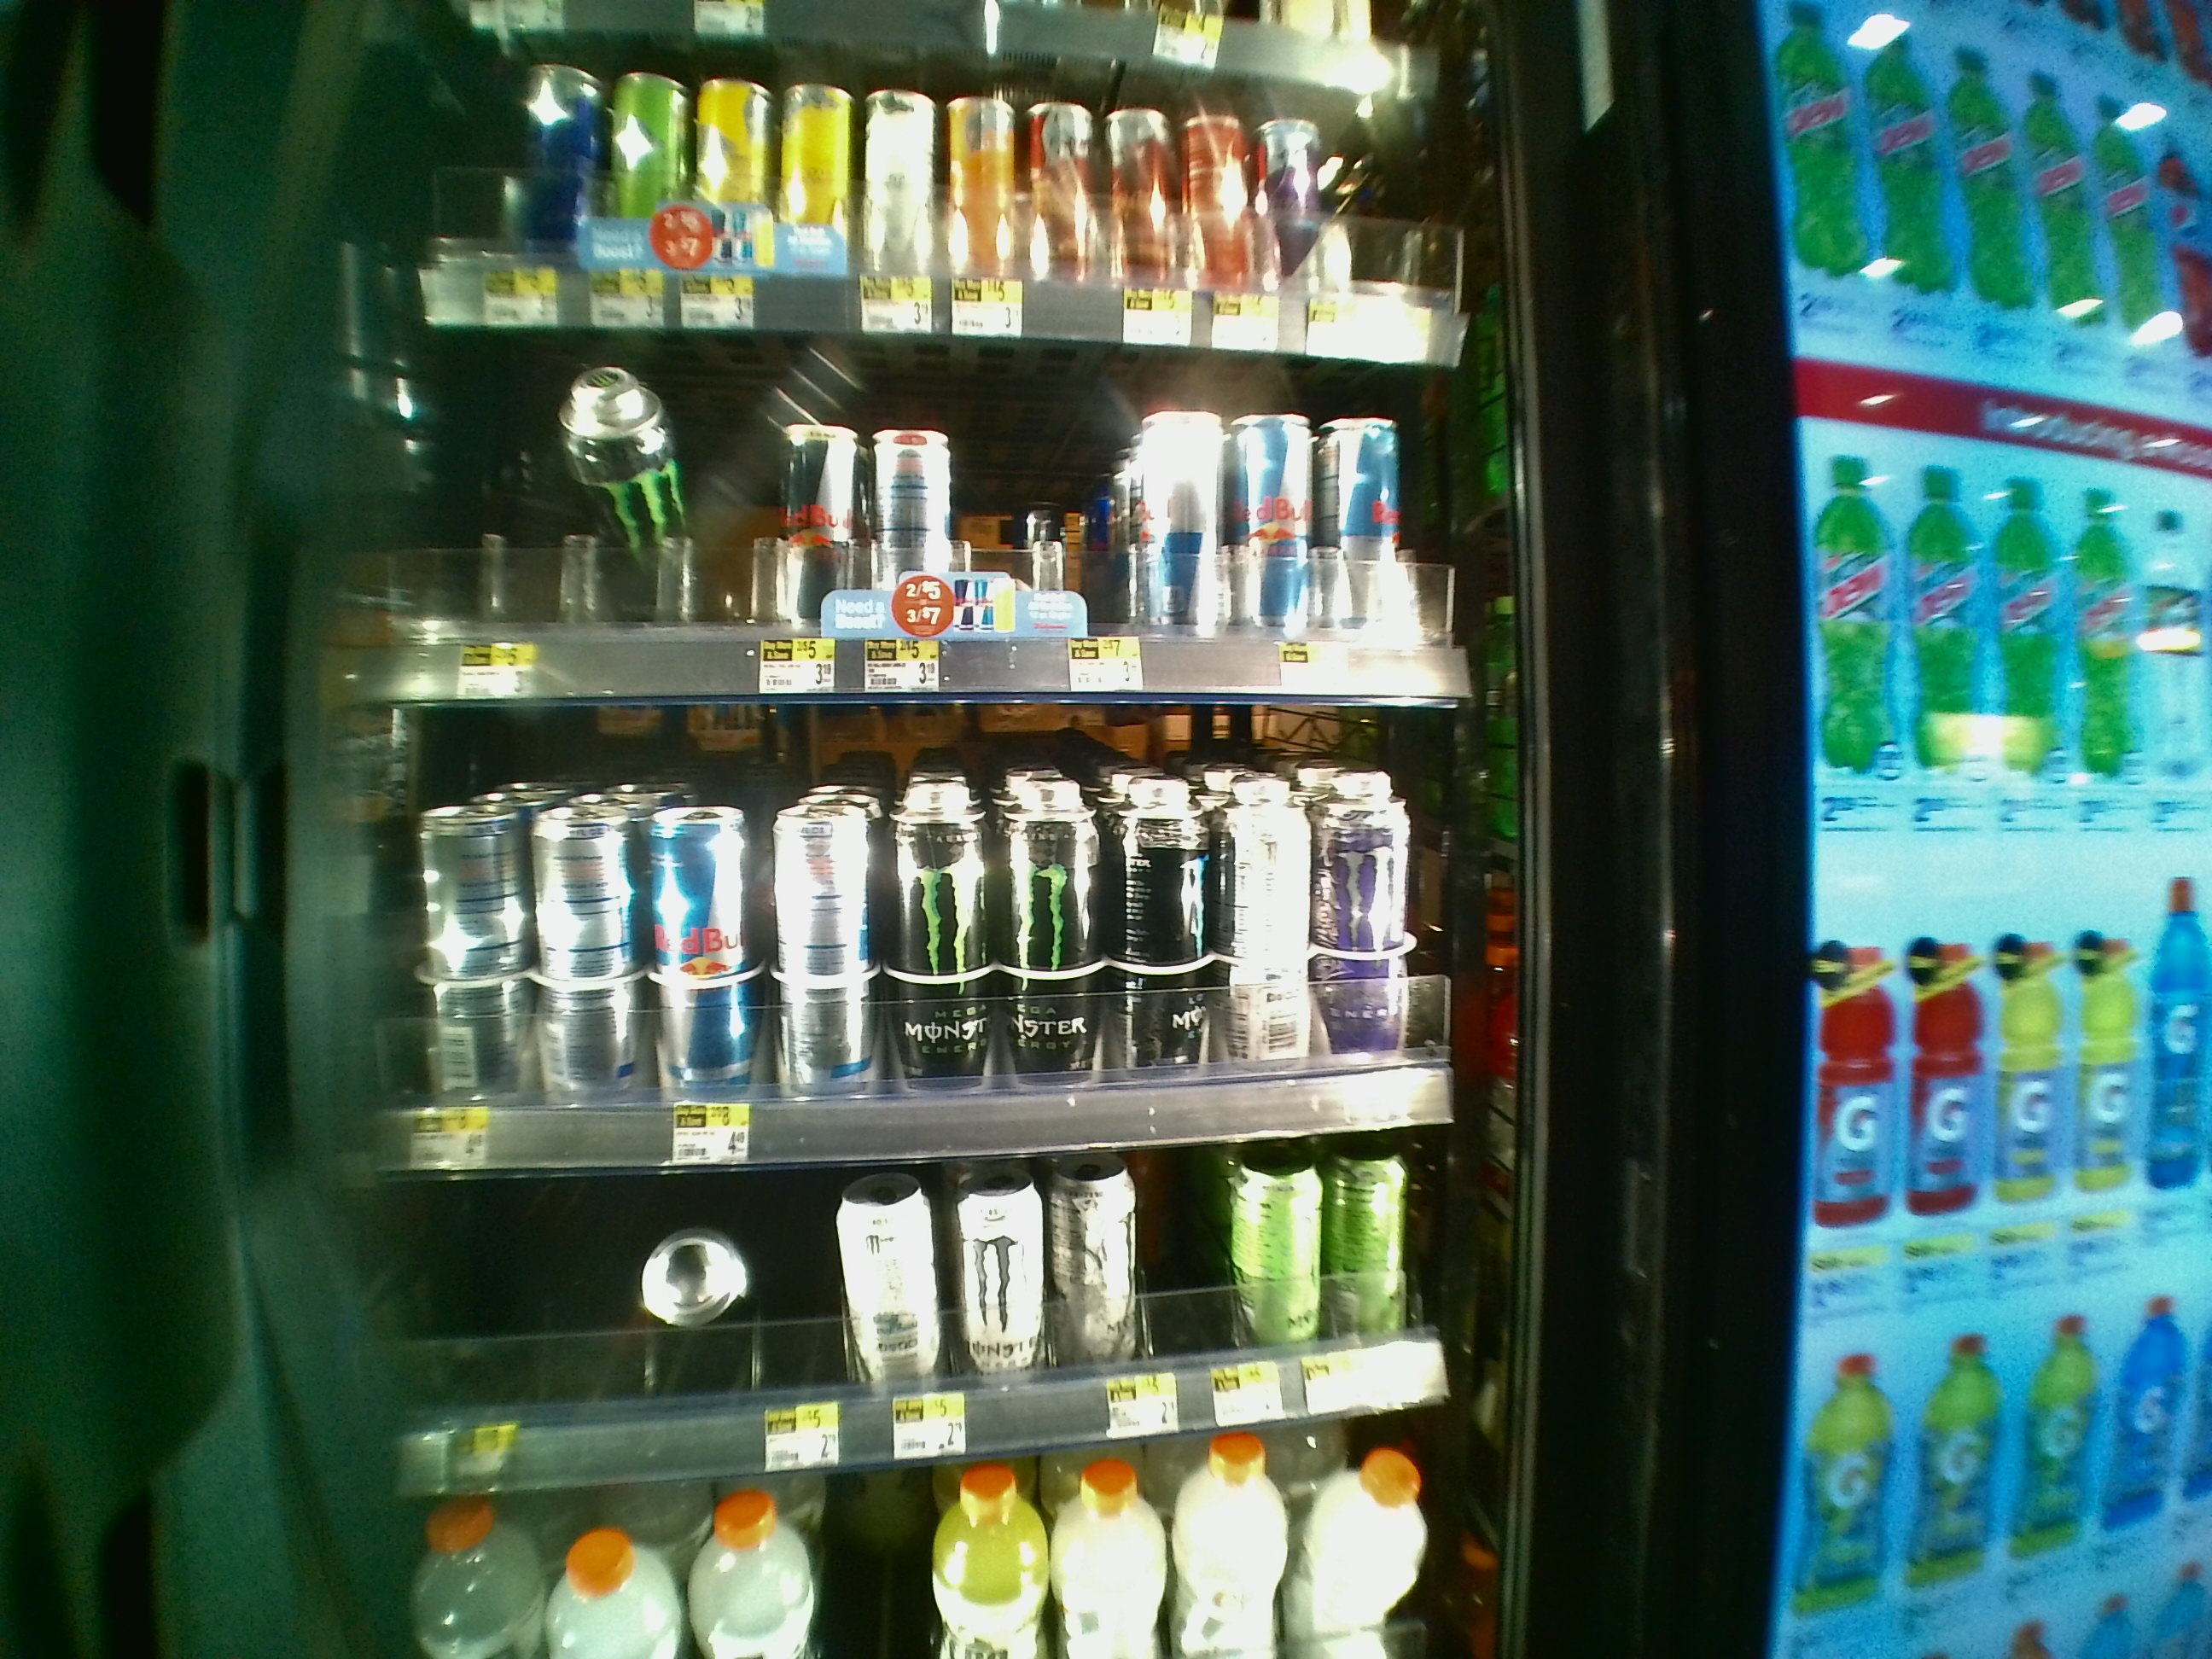shelf: (362, 695, 1538, 1168), (381, 340, 1529, 711)
